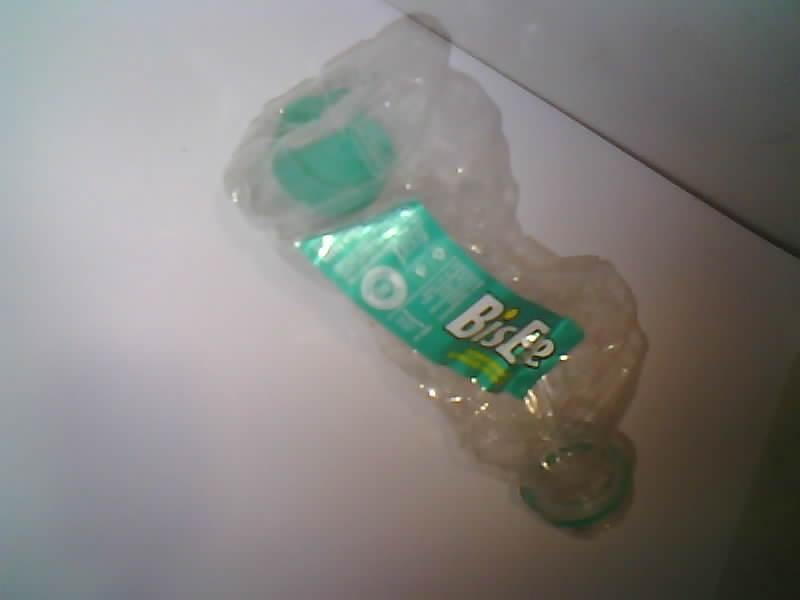non-biodegradable: (225, 20, 644, 528)
